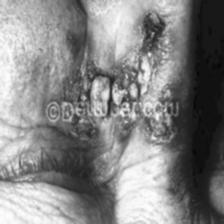Potentially Malignant Skin Tumors: (118, 11, 162, 86), (146, 116, 176, 144)
